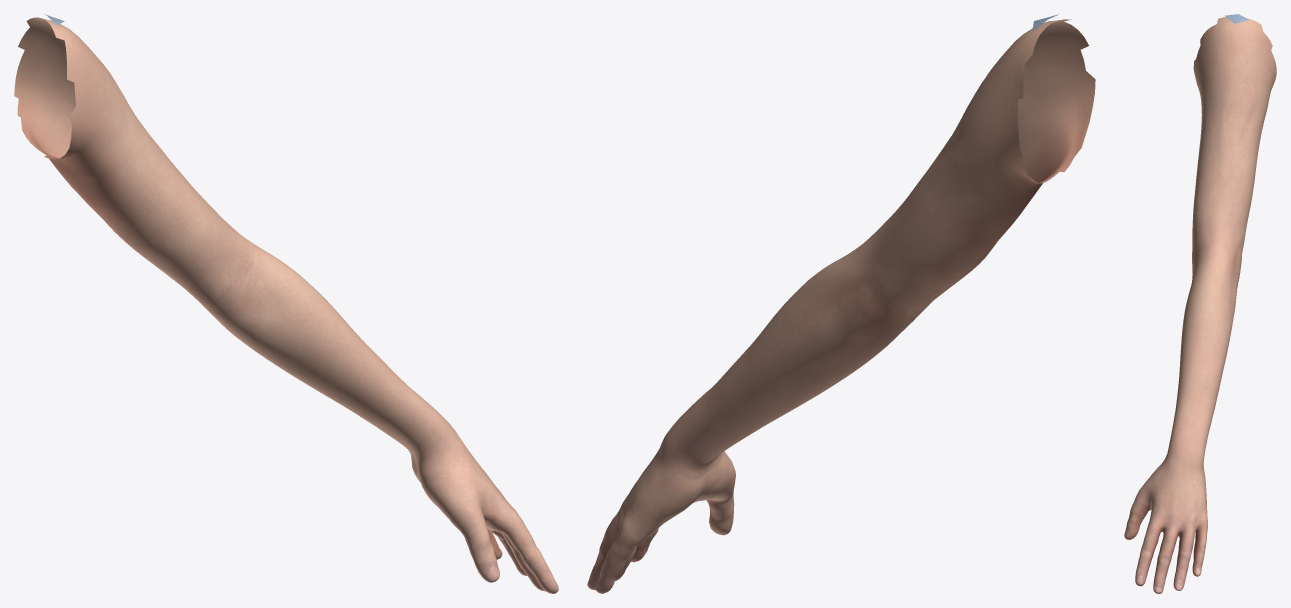
The model's file is brazoIzquierdo.obj.
3 views of the same model, side by side, from view 1: azimuth 30°, elevation 25°; view 2: azimuth 150°, elevation 25°; view 3: azimuth 270°, elevation 25° (orthographic). The views are drawn at different scales.
Visible parts, largest first — view 1: body; view 2: body; view 3: body.
Part boxes in pixels (x1,y1,x2,y2): body: (14,17,558,593); body: (587,19,1095,593); body: (1124,17,1276,593).
Size of the model in its own units: 0.4476 by 0.6031 by 0.192.
Materials: 2 (2 with a texture image).
